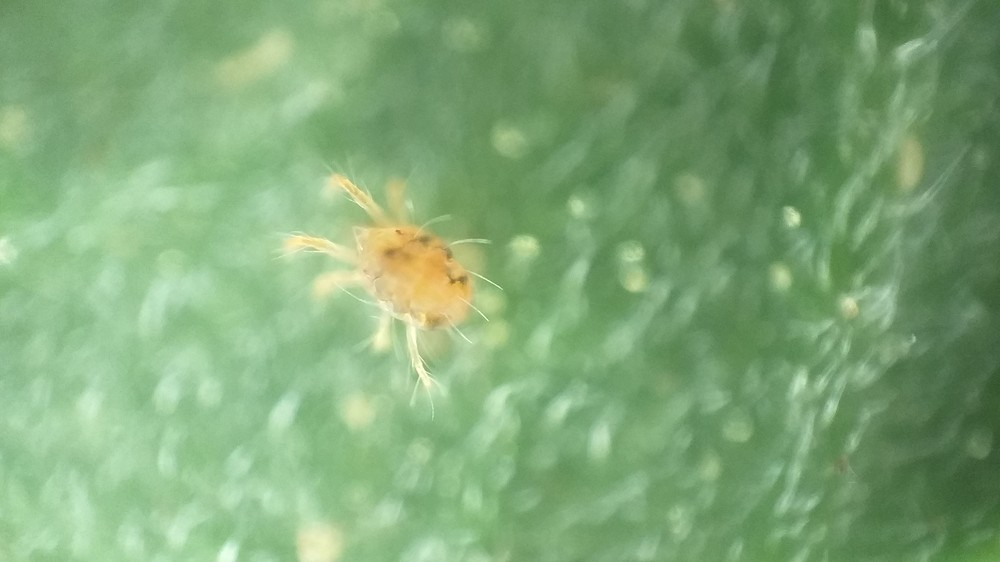Aracnido Rojo: (256, 157, 534, 402)
